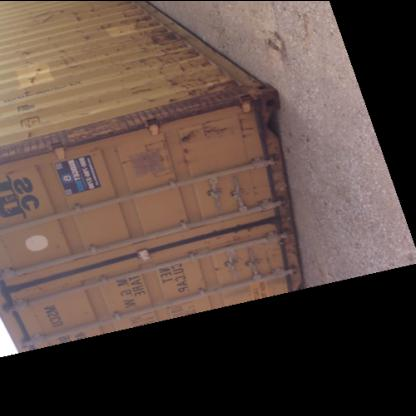Damage: (124, 29, 245, 114), (18, 64, 56, 107), (101, 2, 157, 28), (196, 116, 230, 144), (48, 37, 76, 69), (170, 128, 191, 166), (237, 113, 254, 145), (30, 6, 56, 26), (64, 77, 86, 95), (66, 6, 86, 24), (13, 45, 33, 61), (21, 125, 36, 145), (80, 31, 90, 43)
